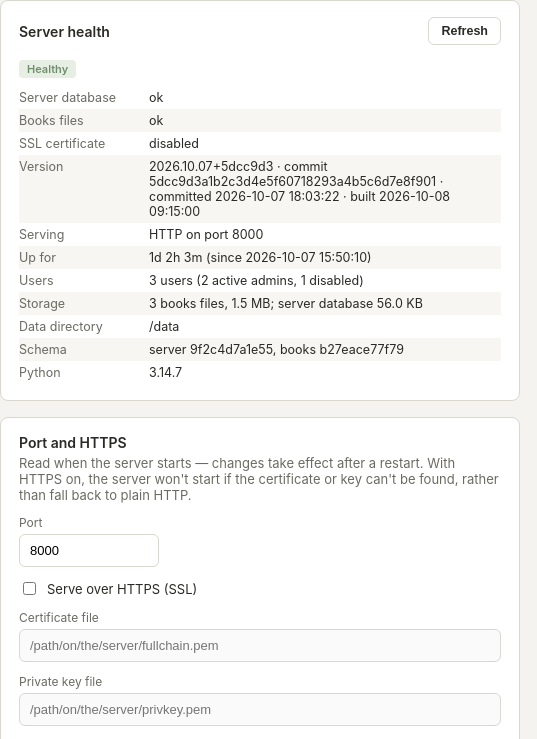
Test: shows why the server refused the settings, and keeps what was typed
Click the checkbox labelled "Serve over HTTPS (SSL)": (30, 588) [23,582,36,595]
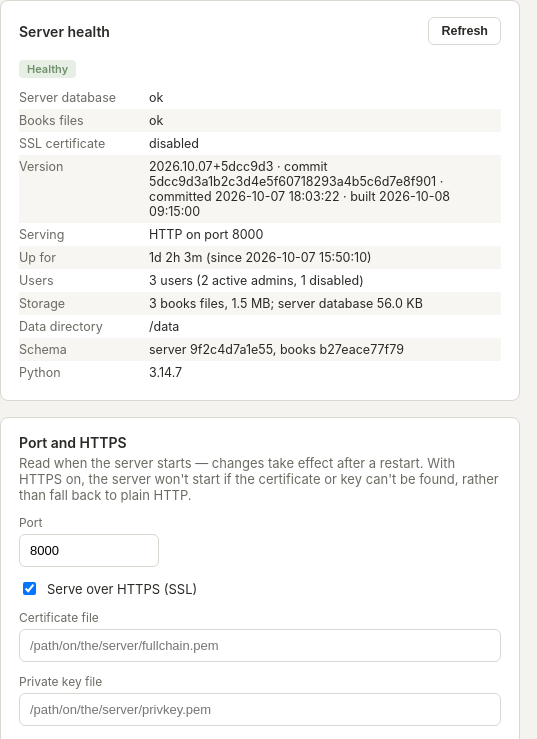
In the field labelled "Certificate file": (260, 646) [19,629,501,662], type "/certs/nope.pem"
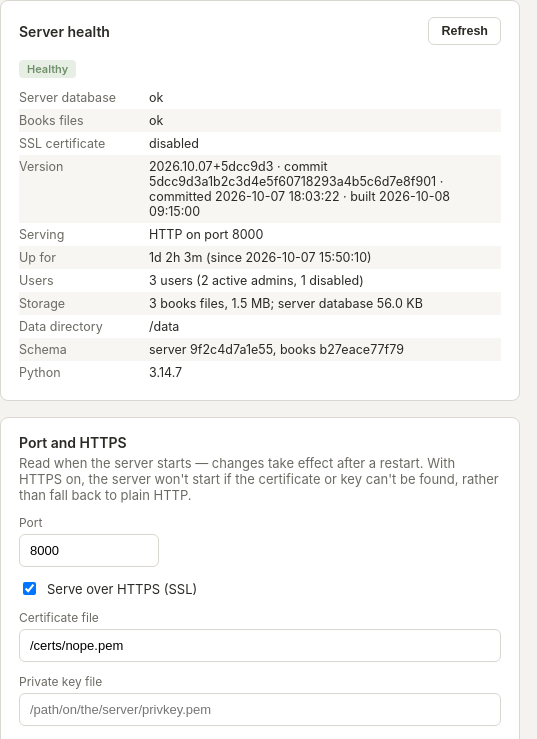
In the field labelled "Private key file": (260, 710) [19,693,501,726], type "/certs/key.pem"
(page scrolled)
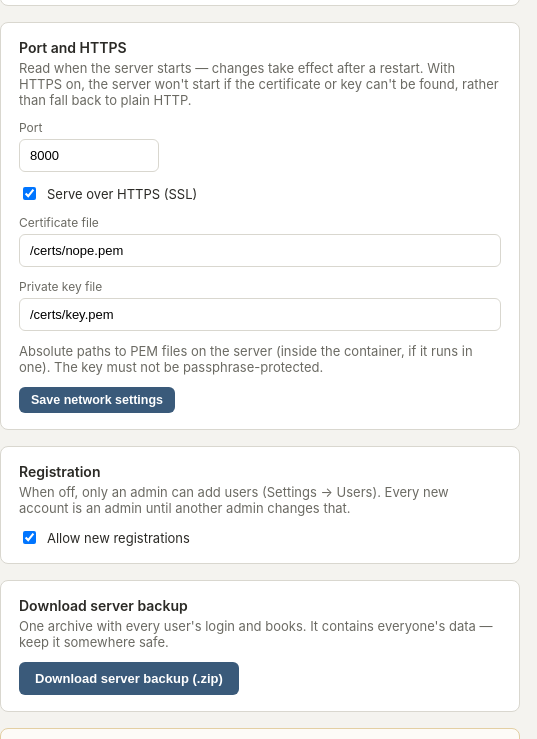
Click the button "Save network settings": (97, 400) [19,387,175,413]
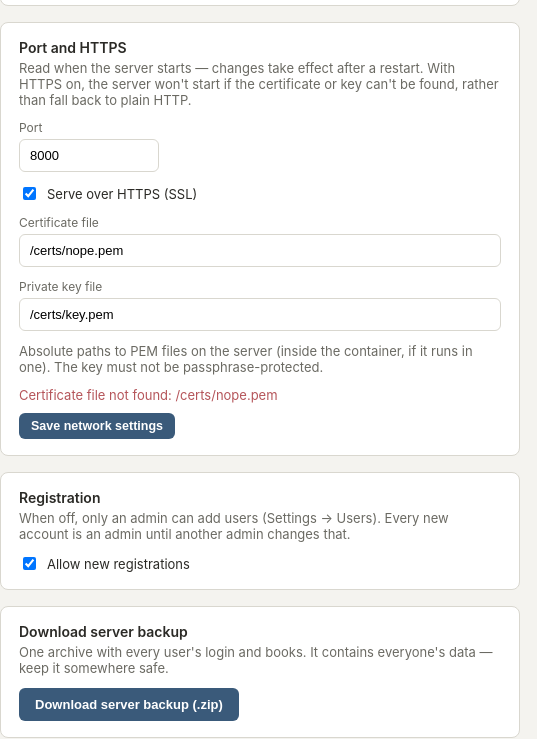
expect the text "Certificate file not found: /certs/nope.pem" is shown: met, box [19,387,278,403]
